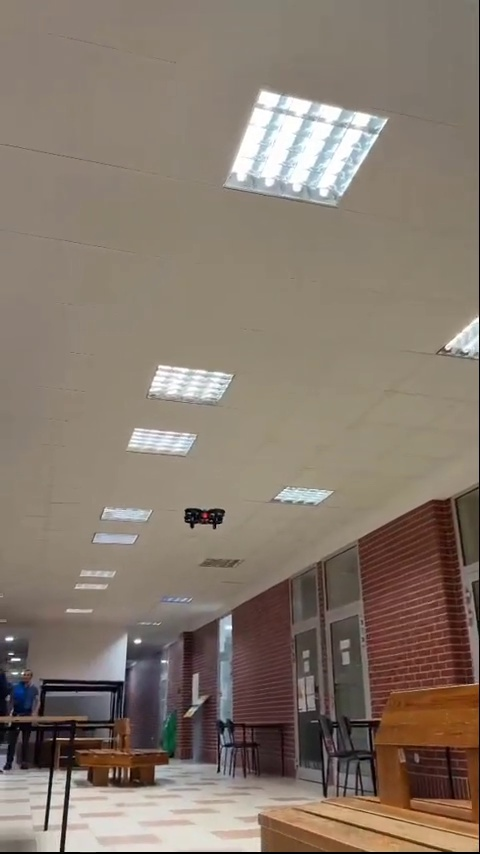drone: (178, 503, 227, 528)
no vest: (13, 665, 40, 717)
